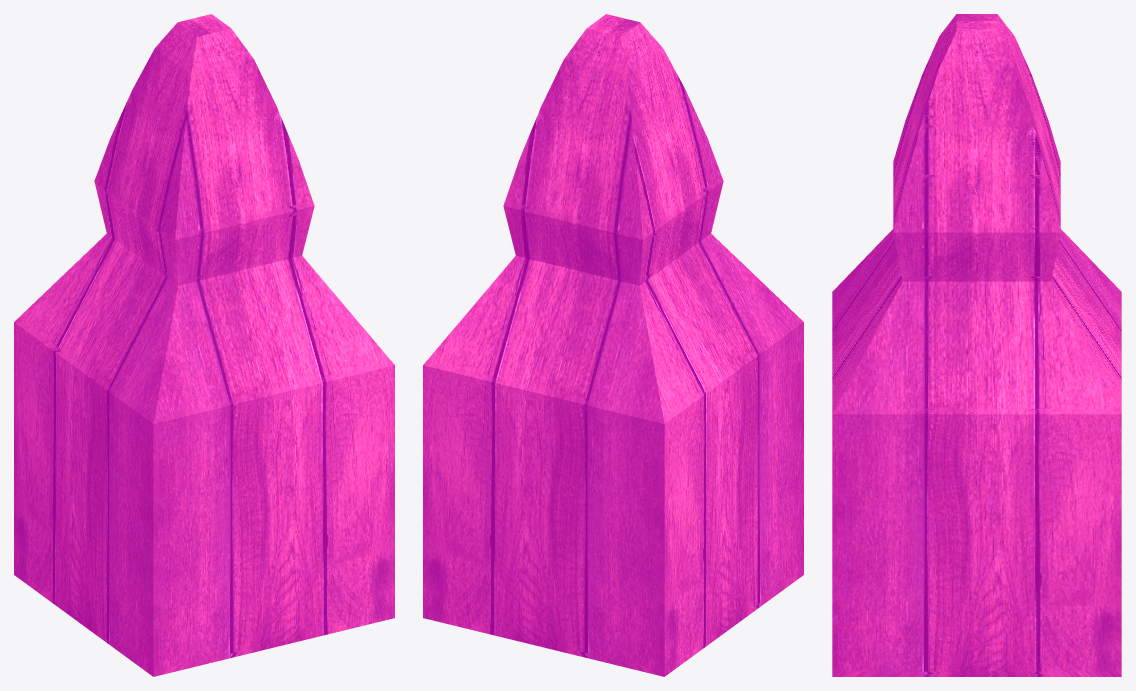
3 views of the same model, side by side, from view 1: azimuth 30°, elevation 25°; view 2: azimuth 150°, elevation 25°; view 3: azimuth 270°, elevation 25° (orthographic). The views are drawn at different scales.
Visible parts, largest first — view 1: Cube, Cube.001; view 2: Cube, Cube.001; view 3: Cube, Cube.001.
Boxes of the visible parts, x1,y1,x2,y2 form: Cube: (14, 14, 394, 676); Cube.001: (14, 14, 394, 676); Cube: (423, 14, 803, 676); Cube.001: (423, 14, 803, 676); Cube: (832, 14, 1121, 676); Cube.001: (832, 14, 1121, 676).
Size of the model in its own units: 2 by 4.52 by 2.
1 material, 1 textured.
